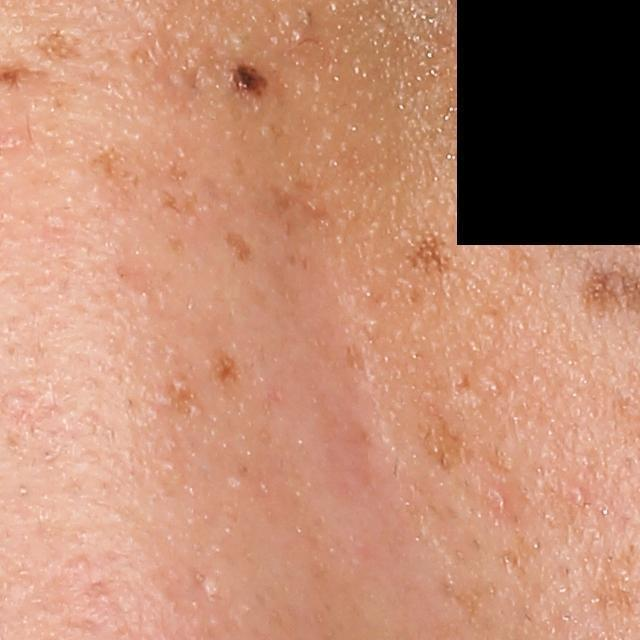atrophic_scar: (130, 7, 223, 128), (548, 447, 634, 530), (190, 568, 220, 601)
comedo: (0, 392, 24, 414)
melasma: (267, 170, 340, 275), (409, 398, 480, 489), (154, 171, 218, 257), (432, 568, 504, 622), (490, 529, 556, 586), (87, 141, 151, 197), (146, 371, 204, 417), (401, 234, 453, 283), (225, 229, 261, 264), (213, 351, 242, 389)
nevus: (230, 64, 268, 104)
